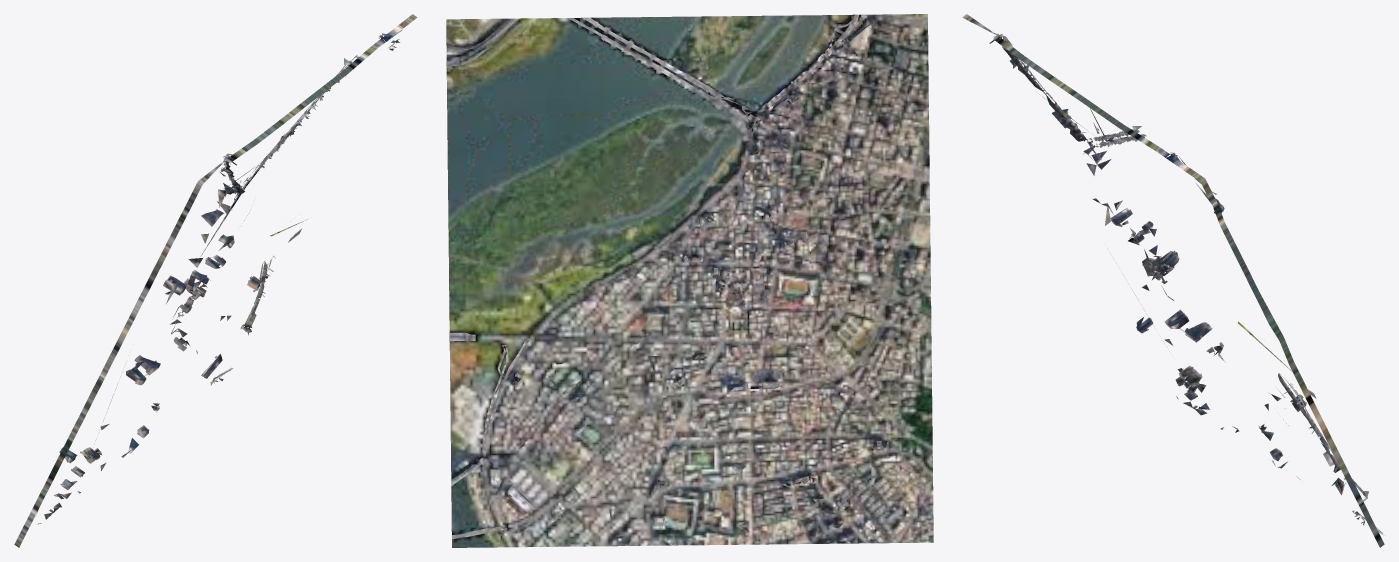
3 renders of one model, left to right at view 1: azimuth 30°, elevation 25°; view 2: azimuth 150°, elevation 25°; view 3: azimuth 270°, elevation 25°, orthographic. The views are drawn at different scales.
Bounding box in the file's own units: 2445 × 2240 × 2055.
1 material, 1 textured.
